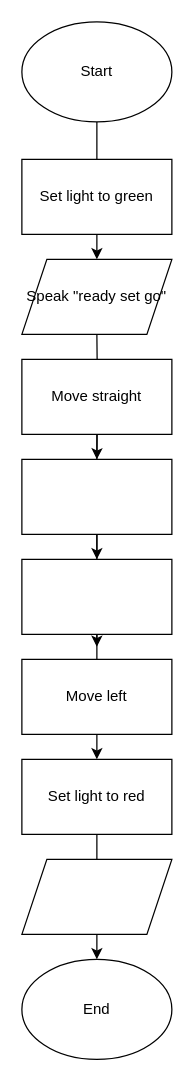
The diagram is 194 pixels wide and 1081 high, and some of its shapes have lost their labels. Each missing label, with the box of its shape:
Move backwards: (21, 558, 172, 634)
Move right: (21, 458, 172, 534)
Speak "I'm done and I need water": (21, 858, 172, 934)
